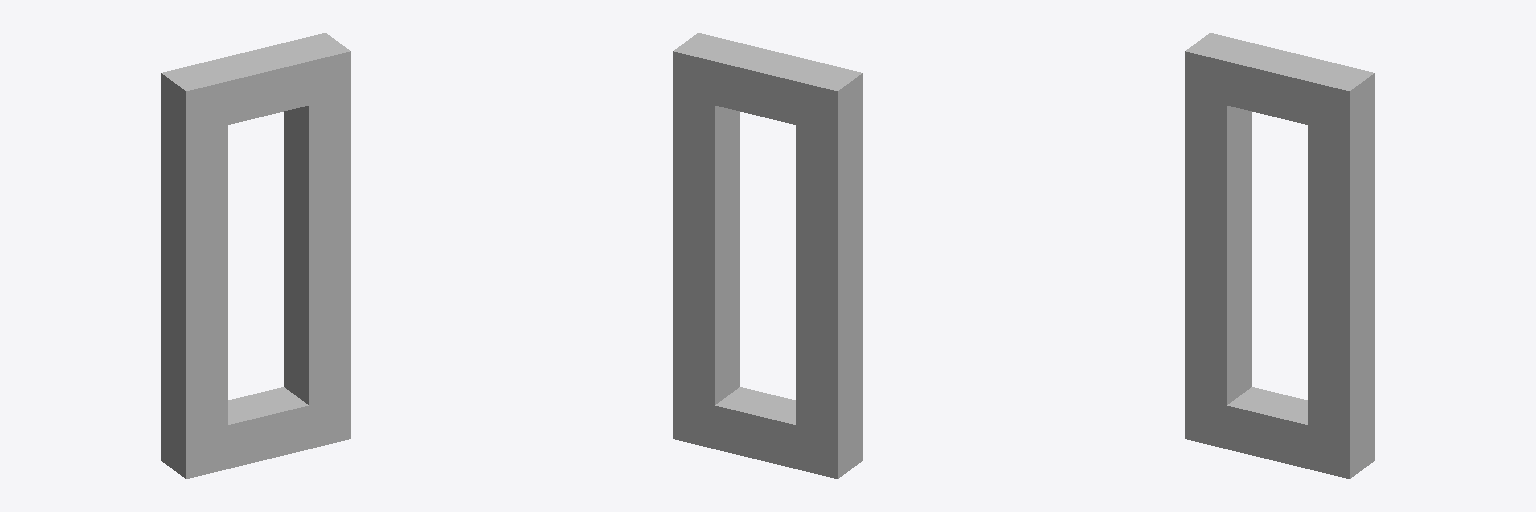
The model's file is window-brown-narrow.obj.
The picture shows the model from 3 angles: view 1: azimuth 30°, elevation 25°; view 2: azimuth 150°, elevation 25°; view 3: azimuth 330°, elevation 25°; orthographic projection.
Visible parts, largest first — view 1: window-brown-narrow; view 2: window-brown-narrow; view 3: window-brown-narrow.
Boxes of the visible parts, x1=… form: window-brown-narrow: x1=161, y1=33, x2=350, y2=478; window-brown-narrow: x1=673, y1=33, x2=862, y2=478; window-brown-narrow: x1=1185, y1=33, x2=1374, y2=478.
Size of the model in its own units: 0.1875 by 0.4219 by 0.05.